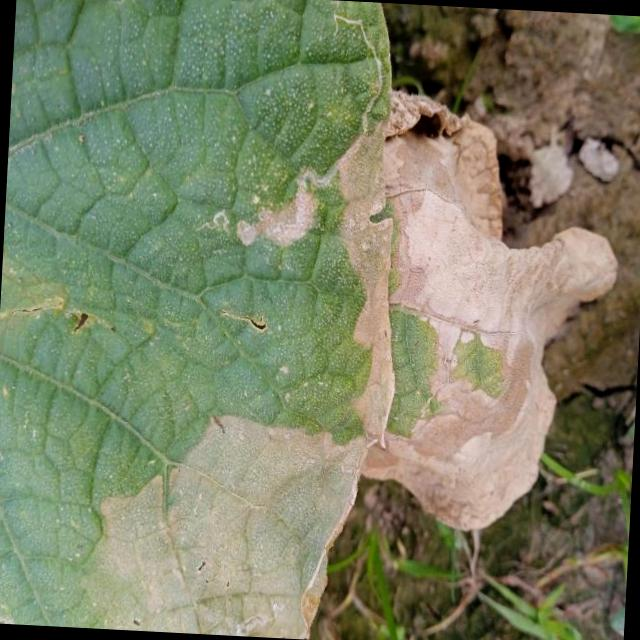cucumber_gummy: (0, 0, 430, 640), (354, 72, 632, 552)
